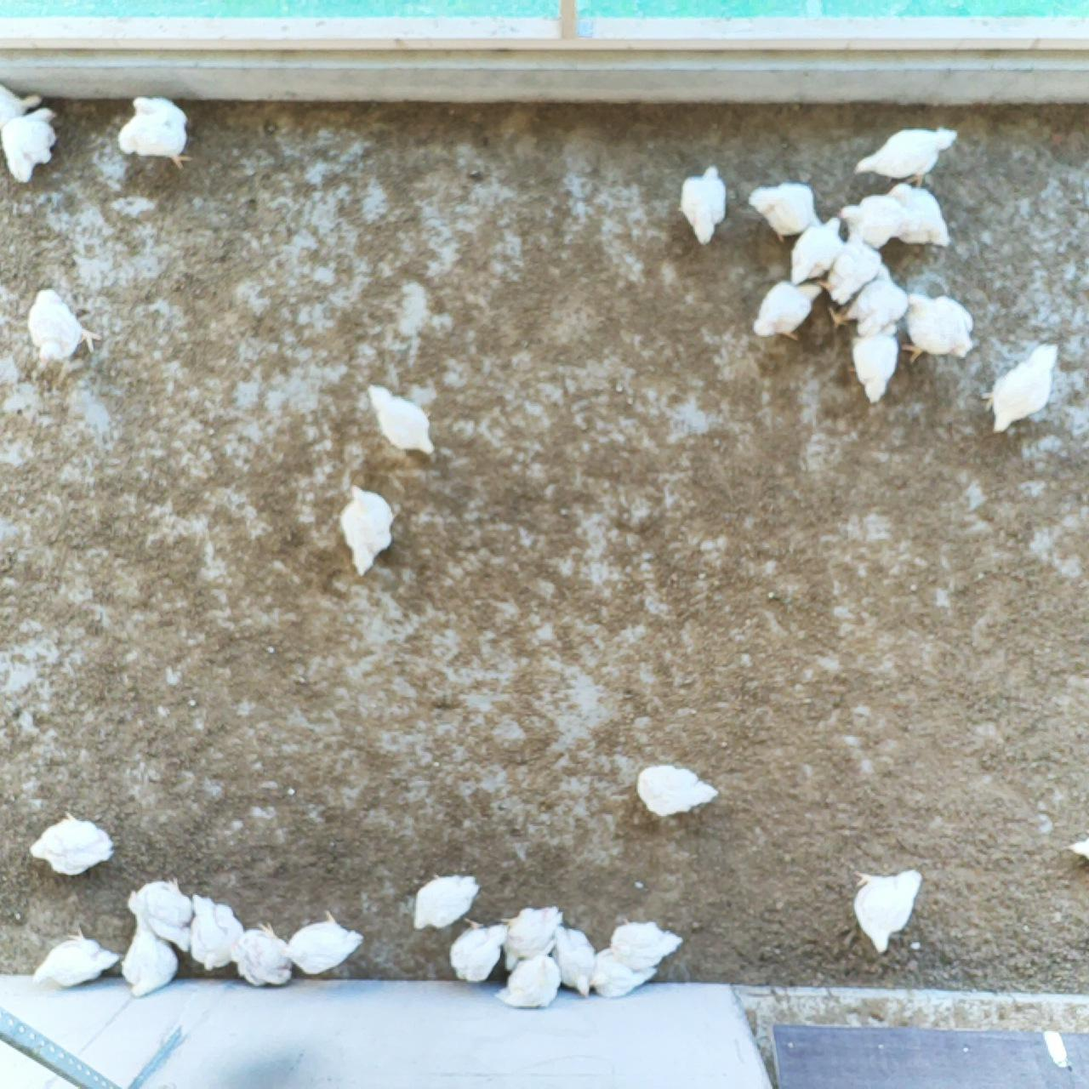chicken: (979, 337, 1063, 440), (849, 120, 965, 192), (844, 861, 927, 959), (257, 905, 367, 976), (26, 282, 102, 373), (112, 91, 195, 173), (26, 808, 119, 880), (823, 259, 911, 335), (899, 289, 977, 371), (29, 922, 121, 991), (123, 873, 195, 959), (336, 482, 397, 577), (365, 383, 440, 460), (117, 910, 179, 1003), (635, 761, 729, 819), (833, 188, 918, 252), (842, 319, 905, 405), (185, 887, 247, 974), (0, 106, 68, 185), (884, 180, 955, 255), (815, 229, 884, 306), (744, 176, 820, 245), (583, 938, 664, 1001), (605, 911, 687, 973), (225, 919, 296, 990), (492, 949, 565, 1017), (675, 160, 730, 250), (407, 868, 482, 934), (499, 899, 564, 975), (445, 914, 512, 987), (749, 278, 825, 342), (785, 211, 847, 289), (549, 921, 596, 1003), (0, 84, 44, 137)
